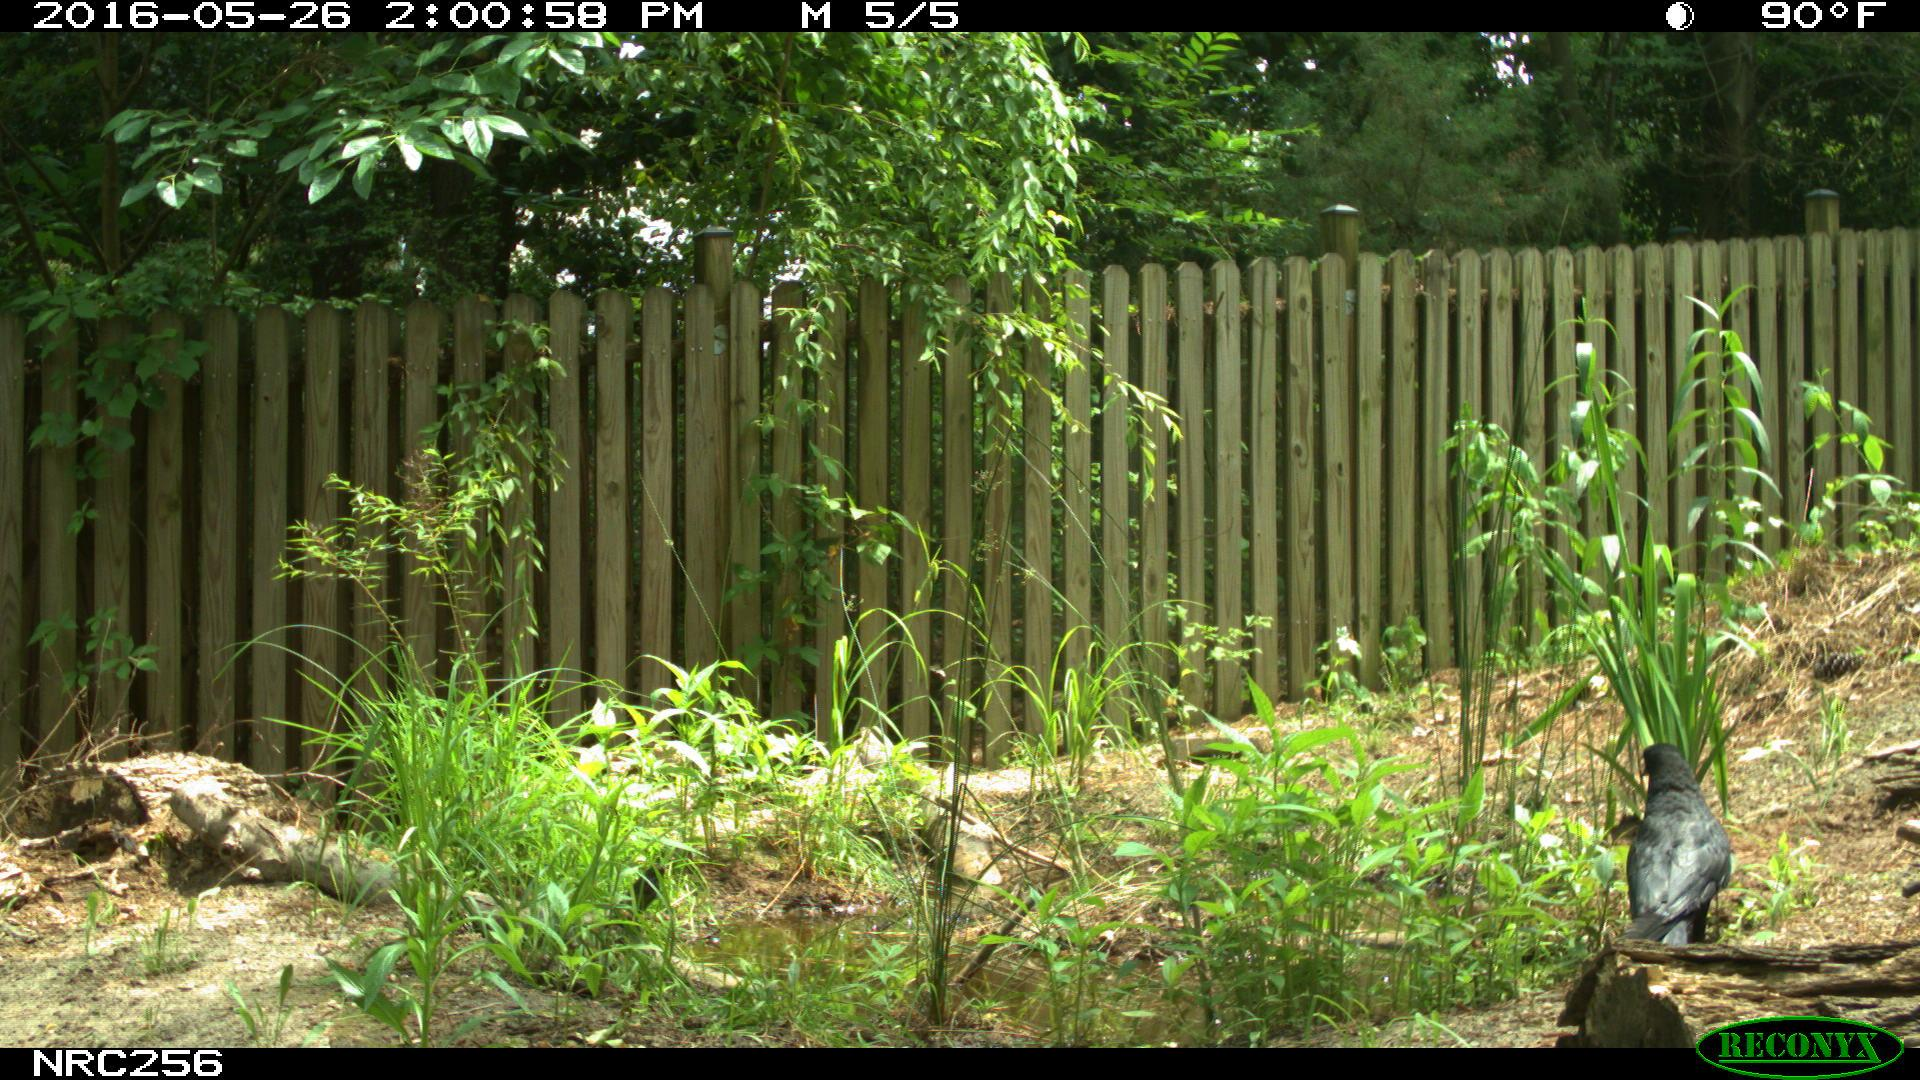Animal: (1625, 740, 1731, 945)
